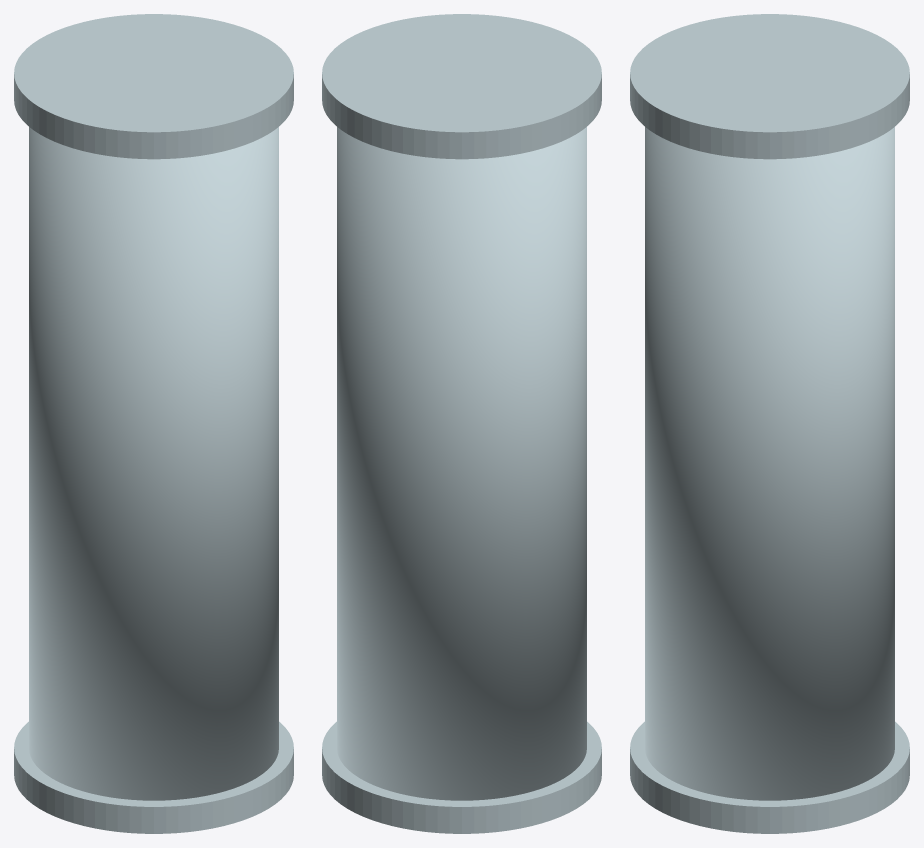
Rendered from A-NEW-20261026-HOURGLASS-001_LOD0_R2.glb.
3 renders of one model, left to right at view 1: azimuth 30°, elevation 25°; view 2: azimuth 150°, elevation 25°; view 3: azimuth 270°, elevation 25°, orthographic.
Visible parts, largest first — view 1: protective clear sleeve, clear flange disk.001, clear flange disk; view 2: protective clear sleeve, clear flange disk.001, clear flange disk; view 3: protective clear sleeve, clear flange disk.001, clear flange disk.
Part boxes in pixels (x1,y1,x2,y2): protective clear sleeve: [29, 127, 278, 800]; clear flange disk.001: [14, 14, 293, 159]; clear flange disk: [14, 721, 293, 833]; protective clear sleeve: [337, 127, 586, 800]; clear flange disk.001: [322, 14, 601, 159]; clear flange disk: [322, 721, 601, 833]; protective clear sleeve: [645, 127, 894, 800]; clear flange disk.001: [630, 14, 909, 159]; clear flange disk: [630, 721, 909, 833].
Size of the model in its own units: 0.094 by 0.26 by 0.094.
